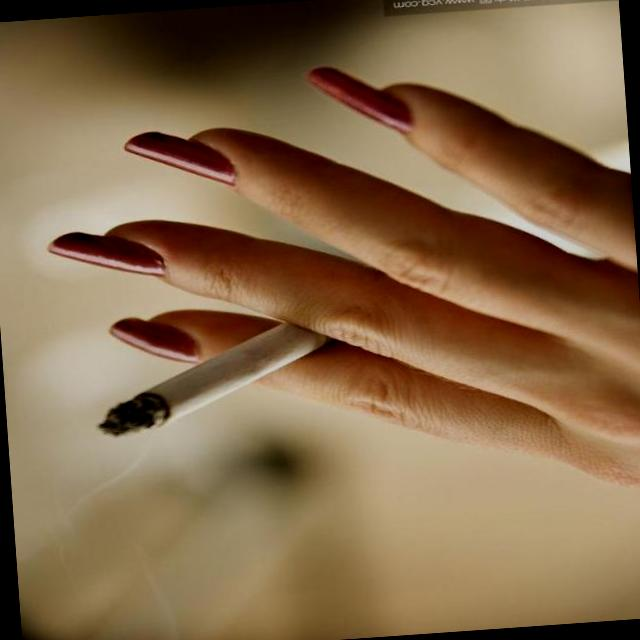cigarette: (76, 306, 370, 448)
